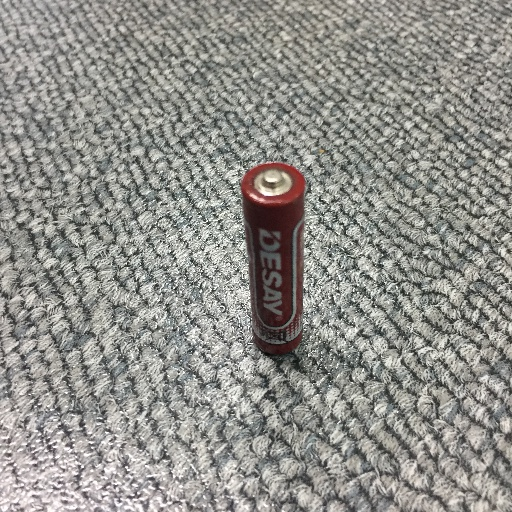Battery_0: (231, 155, 317, 364)
